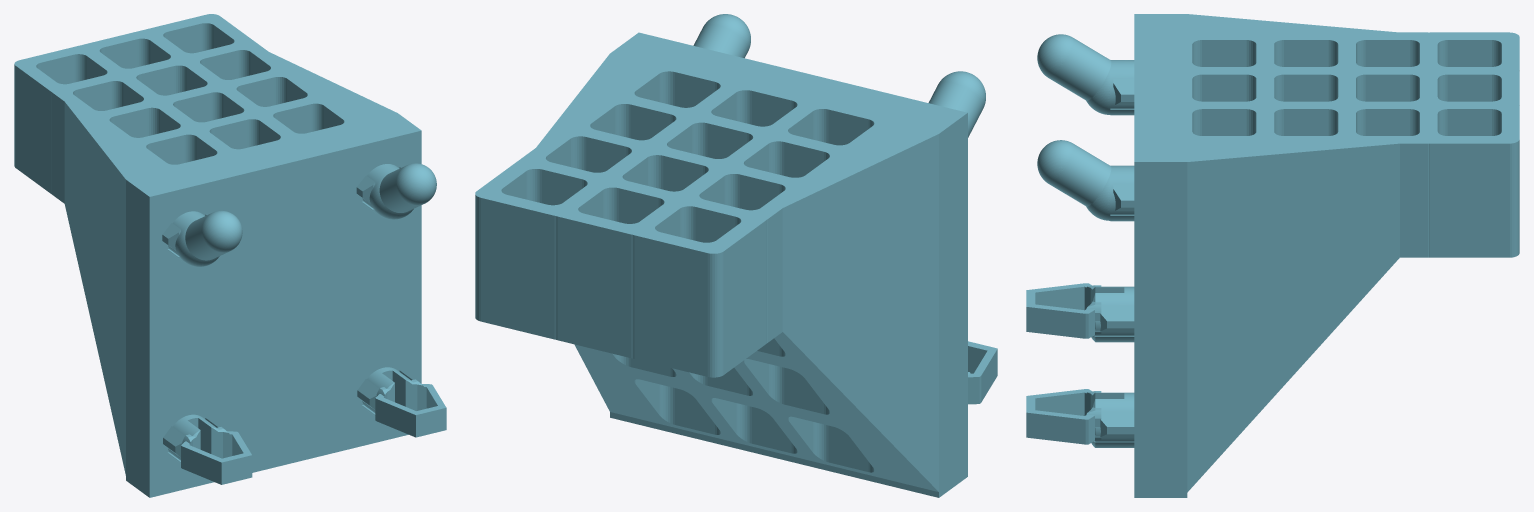
File: part-p01-12__current-mounts-flat-top-v2__fit-pf02c9-hoop5__installed.glb
The picture shows the model from 3 angles, left to right: view 1: azimuth 30°, elevation 25°; view 2: azimuth 150°, elevation 25°; view 3: azimuth 270°, elevation 25°; orthographic projection. The views are drawn at different scales.
Parts seen in each view (by area): view 1: installed.stl; view 2: installed.stl; view 3: installed.stl.
Boxes of the visible parts, x1,y1,x2,y2 form: installed.stl: (14,14,446,497); installed.stl: (475,14,997,497); installed.stl: (1026,14,1519,497).
Bounding box in the file's own units: 0.0356 × 0.0376 × 0.05.
